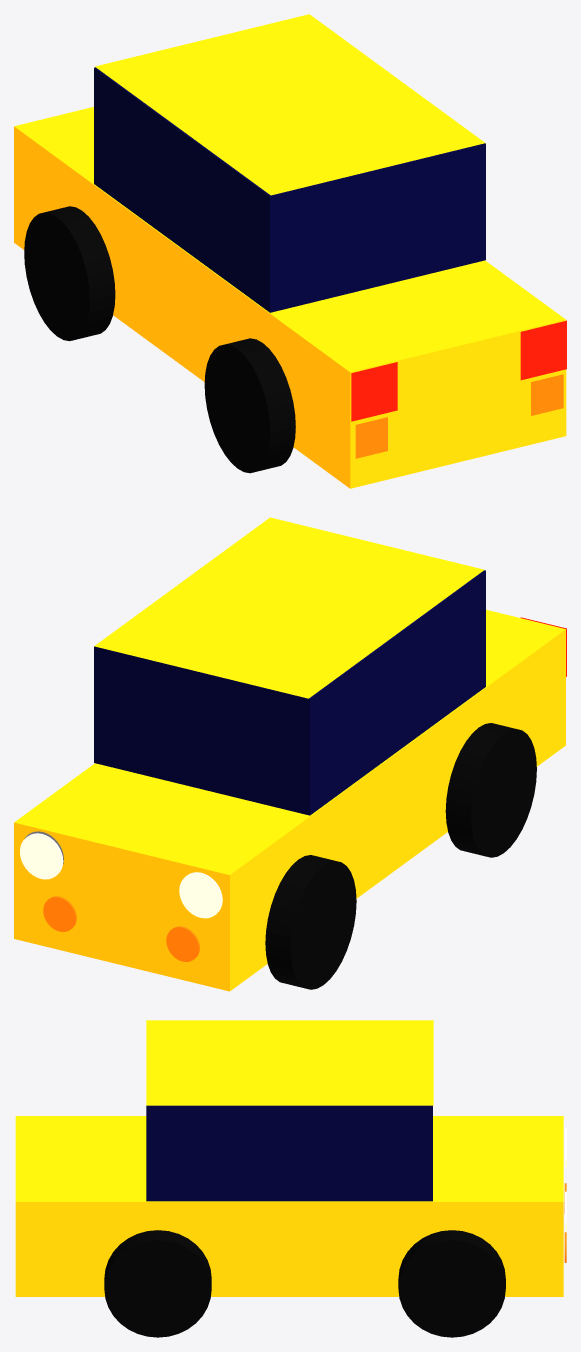
The model's file is new car 4.fbx.
3 renders of one model, top to bottom at view 1: azimuth 30°, elevation 25°; view 2: azimuth 150°, elevation 25°; view 3: azimuth 270°, elevation 25°, orthographic. The views are drawn at different scales.
Parts seen in each view (by area): view 1: Cube.012, Cube.013, Plane.042, Circle.064, Circle.066, Plane.039, Plane.038, Plane.040, Plane.041; view 2: Cube.012, Cube.013, Plane.042, Circle.064, Circle.066, Circle.067, Circle.059, Circle.060, Circle.061; view 3: Cube.012, Cube.013, Plane.042, Circle.065, Circle.063.
Part boxes in pixels (bbox=[...]): Cube.012: bbox=[14, 107, 566, 488]; Cube.013: bbox=[94, 67, 485, 312]; Plane.042: bbox=[95, 14, 485, 195]; Circle.064: bbox=[24, 206, 115, 341]; Circle.066: bbox=[204, 338, 295, 473]; Plane.039: bbox=[520, 320, 566, 380]; Plane.038: bbox=[351, 362, 397, 421]; Plane.040: bbox=[531, 374, 563, 415]; Plane.041: bbox=[355, 417, 387, 458]; Cube.012: bbox=[14, 609, 565, 991]; Cube.013: bbox=[94, 570, 485, 815]; Plane.042: bbox=[94, 517, 484, 698]; Circle.064: bbox=[265, 855, 356, 989]; Circle.066: bbox=[445, 723, 536, 857]; Circle.067: bbox=[179, 872, 222, 918]; Circle.059: bbox=[20, 833, 63, 879]; Circle.060: bbox=[166, 926, 199, 961]; Circle.061: bbox=[43, 896, 76, 931]; Cube.012: bbox=[15, 1116, 563, 1296]; Cube.013: bbox=[146, 1105, 432, 1201]; Plane.042: bbox=[146, 1020, 433, 1105]; Circle.065: bbox=[104, 1230, 211, 1337]; Circle.063: bbox=[398, 1230, 505, 1337].
Bounding box in the file's own units: 247 × 241 × 544.
